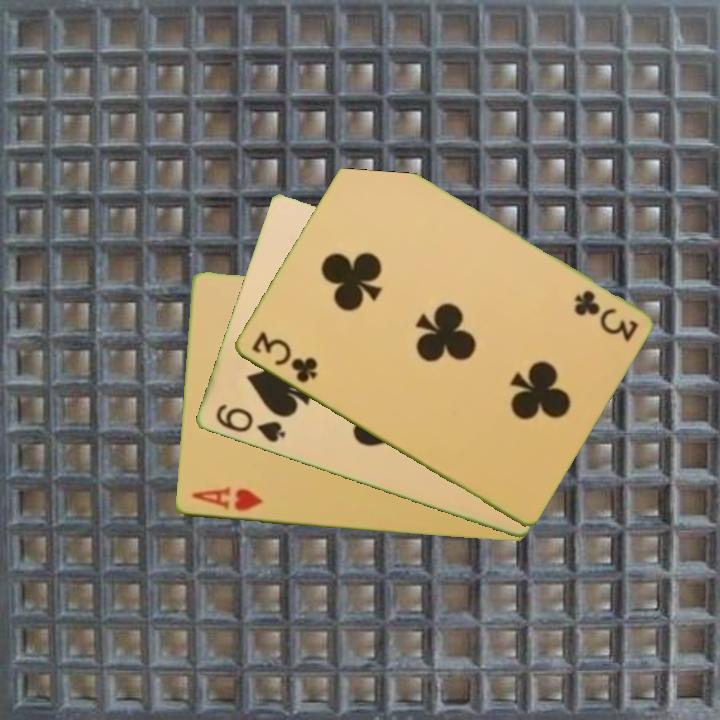3c: (247, 328, 320, 386), (570, 286, 641, 344)
6s: (211, 401, 288, 446)
Ah: (187, 483, 265, 515)
